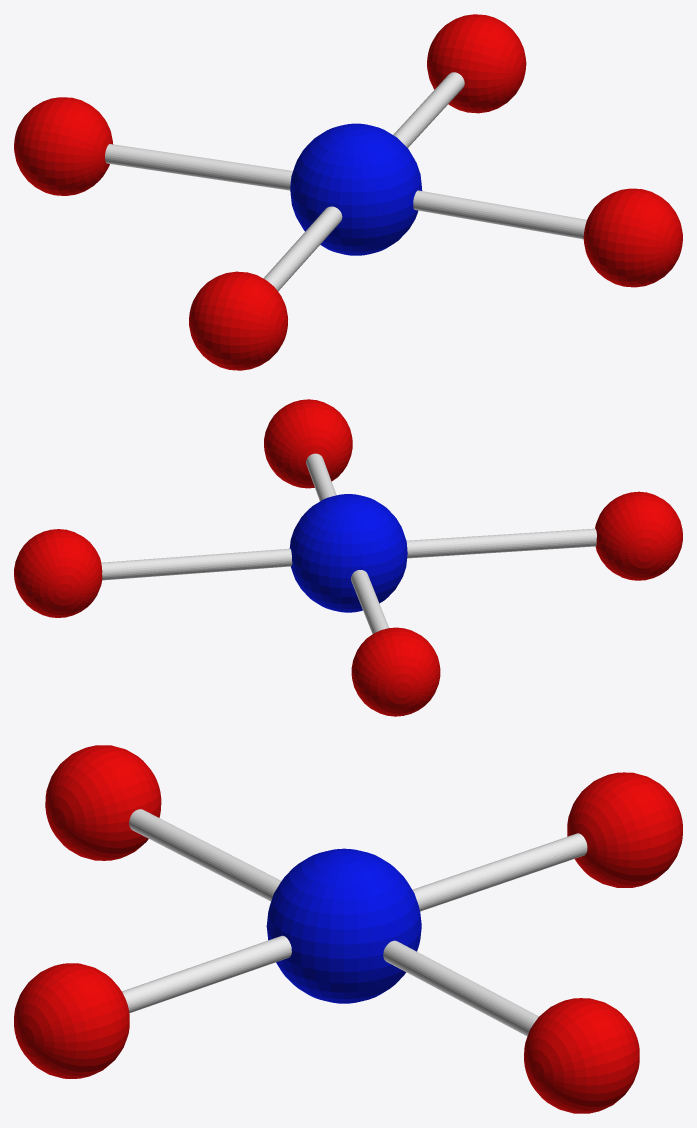
Rendered from KareDuzlem.gltf.
3 views of the same model, one above another, from view 1: azimuth 30°, elevation 25°; view 2: azimuth 150°, elevation 25°; view 3: azimuth 270°, elevation 25° (orthographic). The views are drawn at different scales.
Parts seen in each view (by area): view 1: Sphere.003, Sphere.004, Sphere.002, Sphere.005, Sphere.001, Cylinder, Cylinder.003, Cylinder.001, Cylinder.002; view 2: Sphere.003, Sphere.005, Sphere.001, Sphere.002, Sphere.004, Cylinder.002, Cylinder.001, Cylinder, Cylinder.003; view 3: Sphere.003, Sphere.004, Sphere.001, Sphere.005, Sphere.002, Cylinder, Cylinder.003, Cylinder.002, Cylinder.001.
Part boxes in pixels (x1,y1,x2,y2): Sphere.003: [290, 123, 422, 255]; Sphere.004: [583, 188, 682, 287]; Sphere.002: [189, 271, 287, 370]; Sphere.005: [14, 97, 112, 195]; Sphere.001: [427, 14, 526, 113]; Cylinder: [105, 144, 292, 190]; Cylinder.003: [413, 190, 586, 239]; Cylinder.001: [263, 206, 342, 291]; Cylinder.002: [393, 72, 464, 147]; Sphere.003: [289, 494, 407, 612]; Sphere.005: [351, 627, 440, 716]; Sphere.001: [14, 529, 102, 617]; Sphere.002: [595, 491, 682, 580]; Sphere.004: [264, 399, 352, 488]; Cylinder.002: [101, 548, 292, 580]; Cylinder.001: [406, 528, 596, 558]; Cylinder: [351, 570, 388, 633]; Cylinder.003: [306, 453, 336, 501]; Sphere.003: [266, 848, 421, 1003]; Sphere.004: [14, 963, 129, 1078]; Sphere.001: [524, 998, 639, 1113]; Sphere.005: [567, 772, 682, 887]; Sphere.002: [45, 745, 161, 860]; Cylinder: [412, 833, 587, 911]; Cylinder.003: [122, 935, 291, 1013]; Cylinder.002: [383, 940, 538, 1036]; Cylinder.001: [129, 809, 281, 901].
Size of the model in its own units: 9.21 by 2 by 8.62.
